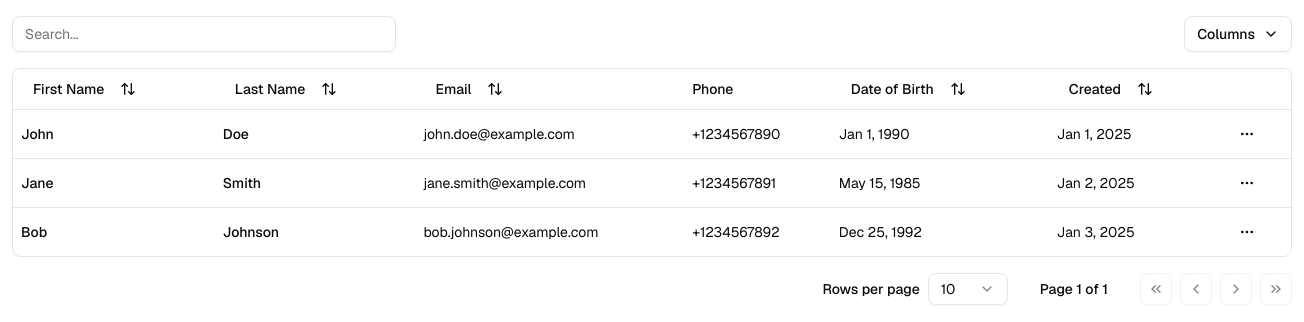
Test: PatientTable › Filtering Functionality › filters by first name
The image size is (1304, 322).
Type "jane" into the field with placeholder "Search..." at [204, 34], box [12,16,396,52]
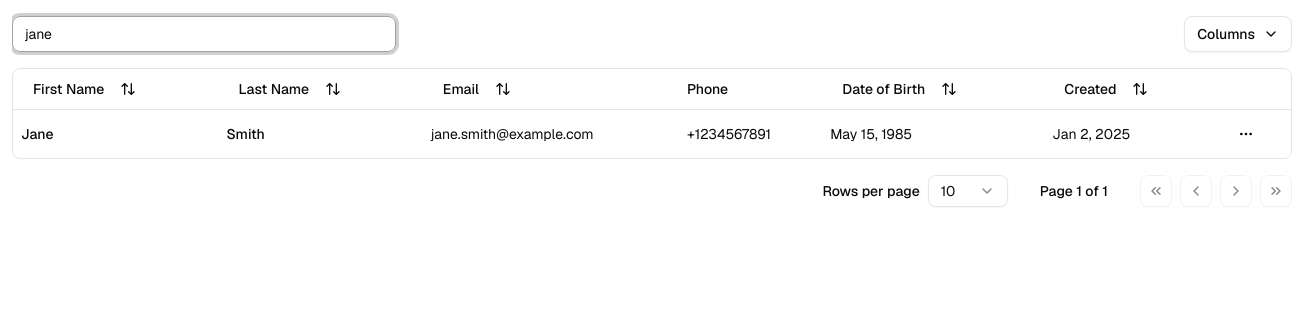
Expected: the text "Jane" is shown, [21,124,54,142]
Expected: the text "John" is gone
Expected: the text "Bob" is gone
